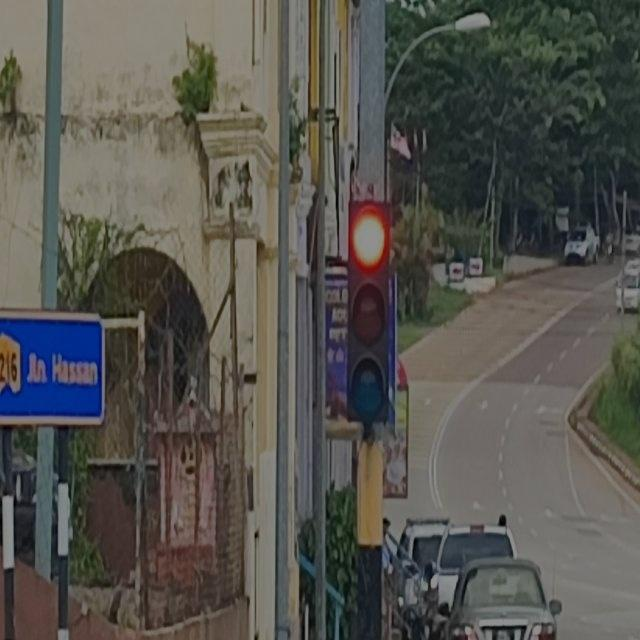Red: (348, 200, 388, 420)
